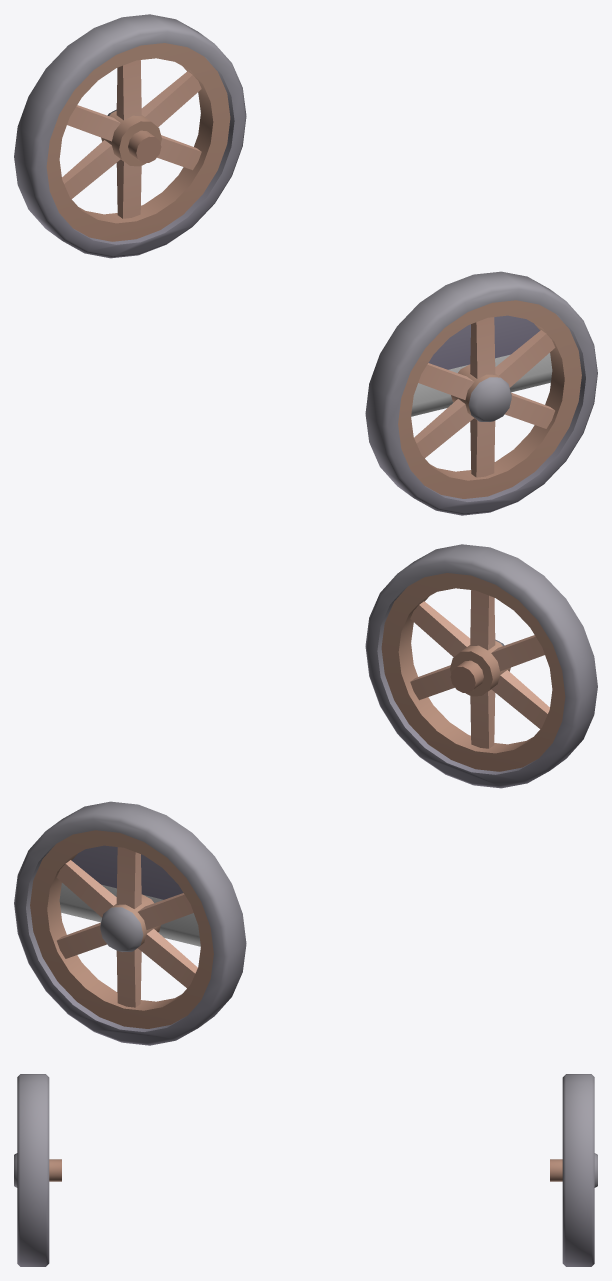
The model's file is base-front-f.glb.
The picture shows the model from 3 angles, top to bottom: view 1: azimuth 30°, elevation 25°; view 2: azimuth 150°, elevation 25°; view 3: azimuth 270°, elevation 25°; orthographic projection. The views are drawn at different scales.
Parts seen in each view (by area): view 1: base-front-f; view 2: base-front-f; view 3: base-front-f.
Boxes of the visible parts, left/top/right/bottom form: base-front-f: left=14, top=14, right=597, bottom=515; base-front-f: left=14, top=544, right=597, bottom=1045; base-front-f: left=14, top=1074, right=597, bottom=1266.
Size of the model in its own units: 0.7539 by 0.7539 by 2.28.
